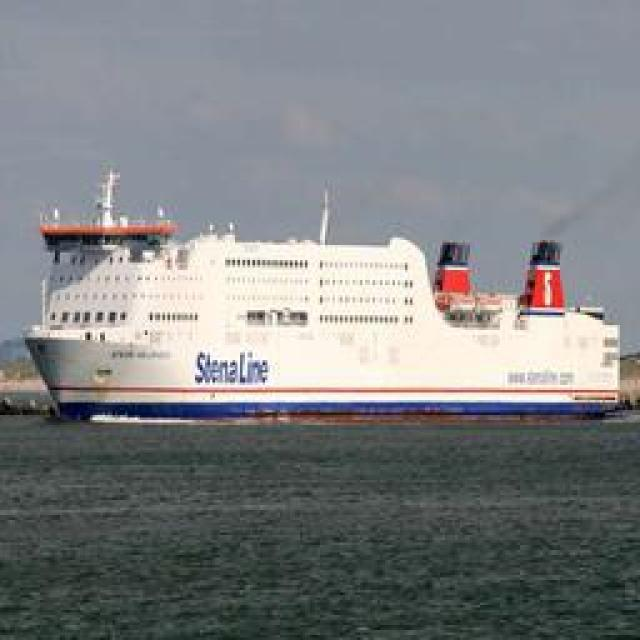CIV_Ship: (27, 178, 615, 422)
